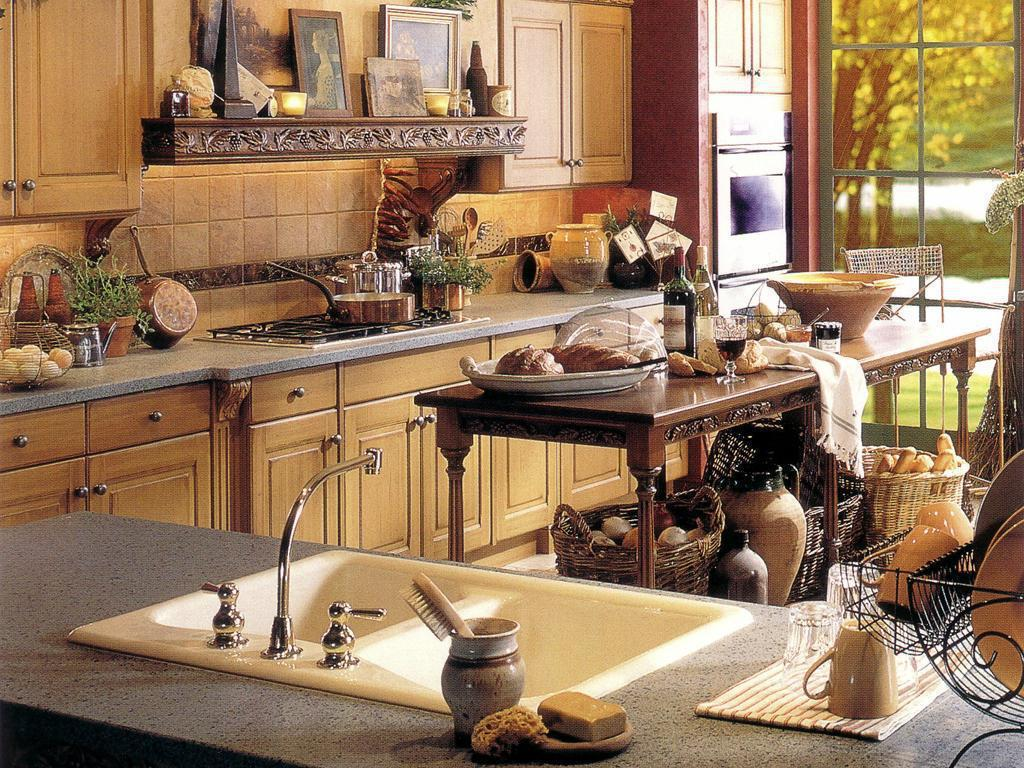Lavaplatos: (113, 448, 751, 724)
